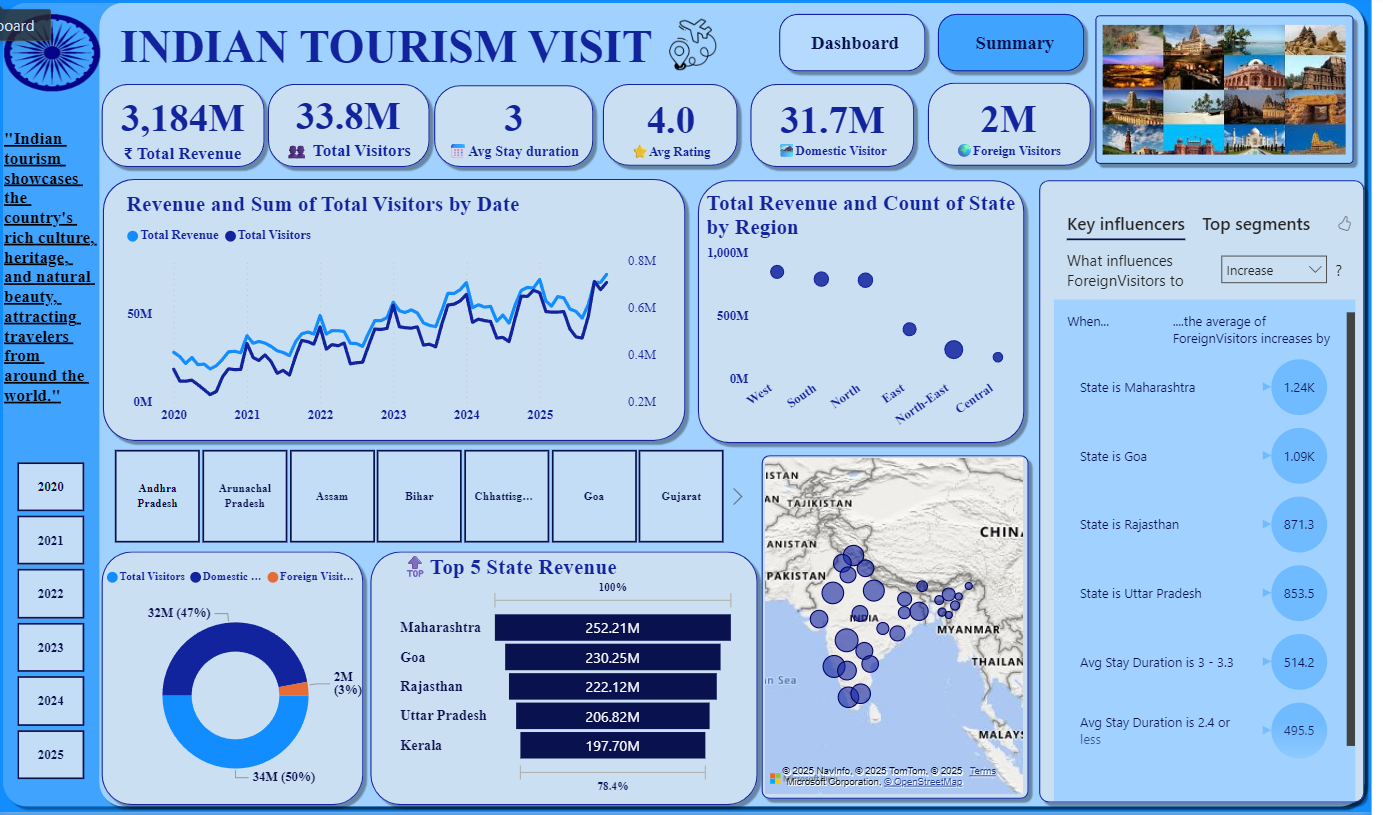

What the dashboard file says about the page in this screenshot:
{"tool":"powerbi","page":{"name":"Dashboard","canvas":[1282,761],"ordinal":0},"visuals":[{"type":"shape","box":[1.3,0,1281,761.3],"z":0},{"type":"shape","box":[91.2,0,1191.2,761.2],"z":1000},{"type":"textbox","box":[111.7,17.5,521.4,65.7],"z":2000},{"type":"shape","box":[1019,12,252.9,151],"z":3000},{"type":"image","box":[1027.4,21.6,236.2,130.7],"z":4000},{"type":"image","box":[600.2,13.1,108.4,64.6],"z":5000},{"type":"shape","box":[872.7,10.8,148.7,65.9],"z":6000},{"type":"shape","box":[724.1,10.8,148.7,65.9],"z":7000},{"type":"shape","box":[93.5,75.5,164.2,89.9],"z":8000},{"type":"shape","box":[402.8,76.7,160.6,88.7],"z":9000},{"type":"shape","box":[248.2,75.5,163,89.9],"z":10000},{"type":"card","title":"Total Revenue","fields":{"Values":["Data.Revenue"]},"box":[99.5,82.7,152.2,76.7],"z":11000},{"type":"card","fields":{"Values":["Sum(Data.TotalVisitors)"]},"box":[255.5,80.6,148.3,76.6],"z":12000},{"type":"shape","box":[559.8,75.5,137.9,88.7],"z":13000},{"type":"card","fields":{"Values":["Data.AvgStayDuration"]},"box":[412.4,80.3,142.7,79.1],"z":14000},{"type":"card","fields":{"Values":["Data.Avg Rating"]},"box":[573,83.9,113.9,73.1],"z":15000},{"type":"shape","box":[94.5,164.2,555,256.5],"z":16000},{"type":"shape","box":[966.2,165.4,315.3,592.2],"z":17000},{"type":"lineChart","title":"Revenue and Sum of Total Visitors by Date","fields":{"Y":["Data.Total Revenue"],"Y2":["Data.Total Visitors"],"Category":["Data.Date"]},"box":[117.4,182.5,504.4,222.4],"z":18000},{"type":"shape","box":[93.6,511.4,256.2,248.8],"z":19000},{"type":"shape","box":[343.7,511.2,373.2,248.8],"z":20000},{"type":"shape","box":[649.1,165.1,316.6,257.4],"z":21000},{"type":"shape","box":[708.3,421.3,261.1,332.6],"z":22000},{"type":"pageNavigator","box":[733.7,12,285.3,65.9],"z":23000},{"type":"map","fields":{"Category":["Data.State"],"Size":["Data.Revenue"]},"box":[716.9,431.1,240.2,312.9],"z":24000},{"type":"shape","box":[697.2,75.1,165.1,89.9],"z":25000},{"type":"card","fields":{"Values":["Data.Total Domestic Visitors"]},"box":[716.9,77.9,125.9,83.9],"z":26000},{"type":"shape","box":[863.1,74.3,164.2,89.9],"z":27000},{"type":"card","fields":{"Values":["Data.Total Foreign Visitors"]},"box":[885.6,80.1,118.2,78.8],"z":28000},{"type":"donutChart","fields":{"Y":["Data.Total Visitors","Data.Total Domestic Visitors","Data.Total Foreign Visitors"]},"box":[99.5,522.7,250.6,230.2],"z":29000},{"type":"funnel","title":"🔝Top 5 State Revenue","fields":{"Category":["Data.State"],"Y":["Data.Total Revenue"]},"box":[372.4,517,323.1,231.1],"z":30000},{"type":"image","box":[0,8.8,106.2,87.6],"z":31000},{"type":"slicer","fields":{"Values":["Calendar.Year"]},"box":[0,431.6,101.9,299.7],"z":32000},{"type":"scatterChart","fields":{"Y":["Data.Total Revenue"],"X":["Data.Region"],"Size":["Count(Data.State)"]},"box":[658.1,182.2,298.5,237.4],"z":33000},{"type":"keyDriversVisual","fields":{"ExplainBy":["Data.State","Data.Month","Data.AvgRating","Data.Avg_Stay_Duration_Days"],"Target":["Data.ForeignVisitors"]},"box":[981.4,187.3,290.3,567.4],"z":34000},{"type":"slicer","fields":{"Values":["Data.State"]},"box":[91.1,420,607.3,91.1],"z":35000},{"type":"textbox","box":[3.6,118.7,95.9,321.3],"z":36000}]}

Visuals, with their boxes in screenshot pixels (x1, y1, x2, y2), scaled from the page's 1282x761 canvas onto the 1383x815 screenshot:
shape: <region>1, 0, 1382, 814</region>
shape: <region>98, 0, 1382, 814</region>
textbox: <region>121, 19, 683, 89</region>
shape: <region>1099, 13, 1372, 175</region>
image: <region>1108, 23, 1363, 163</region>
image: <region>647, 14, 764, 83</region>
shape: <region>941, 12, 1102, 82</region>
shape: <region>781, 12, 942, 82</region>
shape: <region>101, 81, 278, 177</region>
shape: <region>435, 82, 608, 177</region>
shape: <region>268, 81, 444, 177</region>
"Total Revenue" card: <region>107, 89, 272, 171</region>
card - Sum(Data.TotalVisitors): <region>276, 86, 436, 168</region>
shape: <region>604, 81, 753, 176</region>
card - Data.AvgStayDuration: <region>445, 86, 599, 171</region>
card - Data.Avg Rating: <region>618, 90, 741, 168</region>
shape: <region>102, 176, 701, 451</region>
shape: <region>1042, 177, 1382, 811</region>
"Revenue and Sum of Total Visitors by Date" lineChart: <region>127, 195, 671, 434</region>
shape: <region>101, 548, 377, 814</region>
shape: <region>371, 547, 773, 814</region>
shape: <region>700, 177, 1042, 452</region>
shape: <region>764, 451, 1046, 807</region>
pageNavigator: <region>792, 13, 1099, 83</region>
map - Data.State x Data.Revenue: <region>773, 462, 1033, 797</region>
shape: <region>752, 80, 930, 177</region>
card - Data.Total Domestic Visitors: <region>773, 83, 909, 173</region>
shape: <region>931, 80, 1108, 176</region>
card - Data.Total Foreign Visitors: <region>955, 86, 1083, 170</region>
donutChart - Data.Total Visitors x Data.Total Domestic Visitors: <region>107, 560, 378, 806</region>
"🔝Top 5 State Revenue" funnel: <region>402, 554, 750, 801</region>
image: <region>0, 9, 115, 103</region>
slicer - Calendar.Year: <region>0, 462, 110, 783</region>
scatterChart - Data.Total Revenue x Data.Region: <region>710, 195, 1032, 449</region>
keyDriversVisual - Data.State x Data.Month: <region>1059, 201, 1372, 808</region>
slicer - Data.State: <region>98, 450, 753, 547</region>
textbox: <region>4, 127, 107, 471</region>
